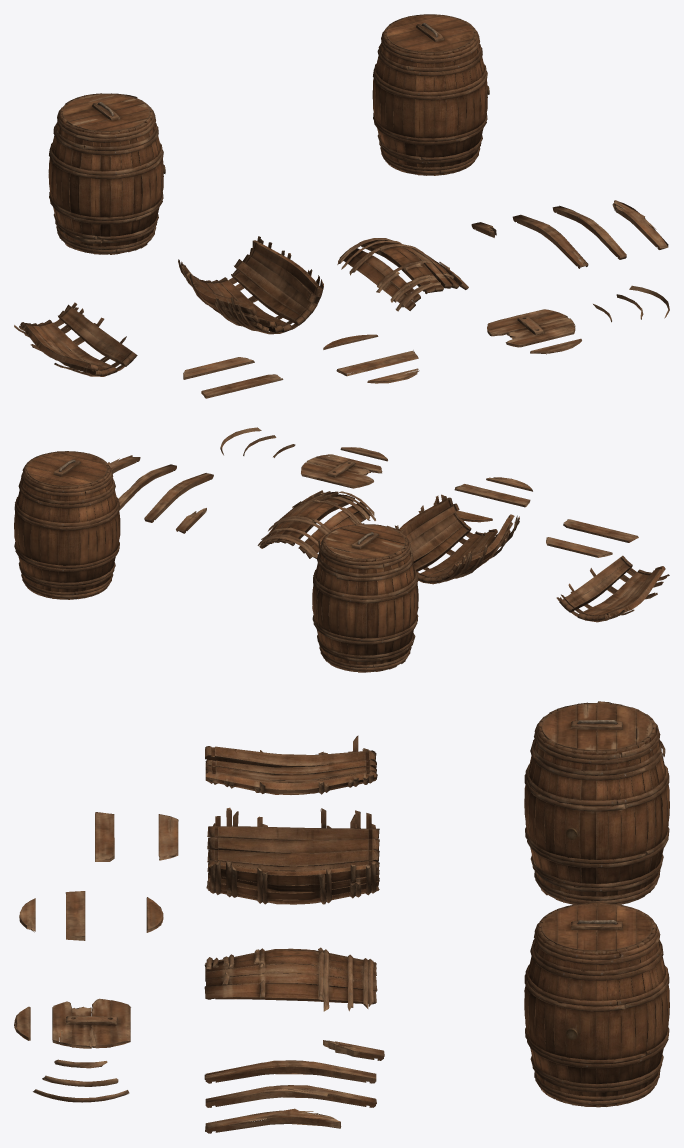
File: wooden_barrels_01.glb
The picture shows the model from 3 angles, top to bottom: view 1: azimuth 30°, elevation 25°; view 2: azimuth 150°, elevation 25°; view 3: azimuth 270°, elevation 25°; orthographic projection. The views are drawn at different scales.
Parts seen in each view (by area): view 1: wooden_barrels_01_barrel01; view 2: wooden_barrels_01_barrel01; view 3: wooden_barrels_01_barrel01.
Part boxes in pixels (left/top/right/bottom): wooden_barrels_01_barrel01: left=14, top=14, right=669, bottom=398; wooden_barrels_01_barrel01: left=14, top=427, right=669, bottom=672; wooden_barrels_01_barrel01: left=14, top=701, right=669, bottom=1133.
Size of the model in its own units: 4.44 by 0.9556 by 3.34.
3 materials, 3 textured.
